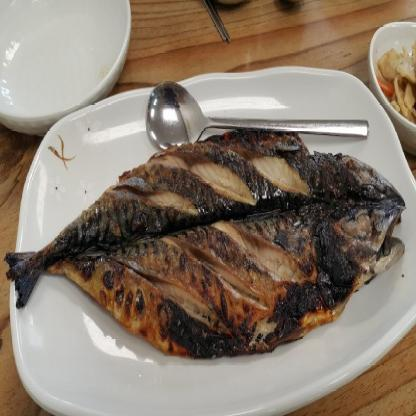Peixe: (0, 138, 412, 357)
